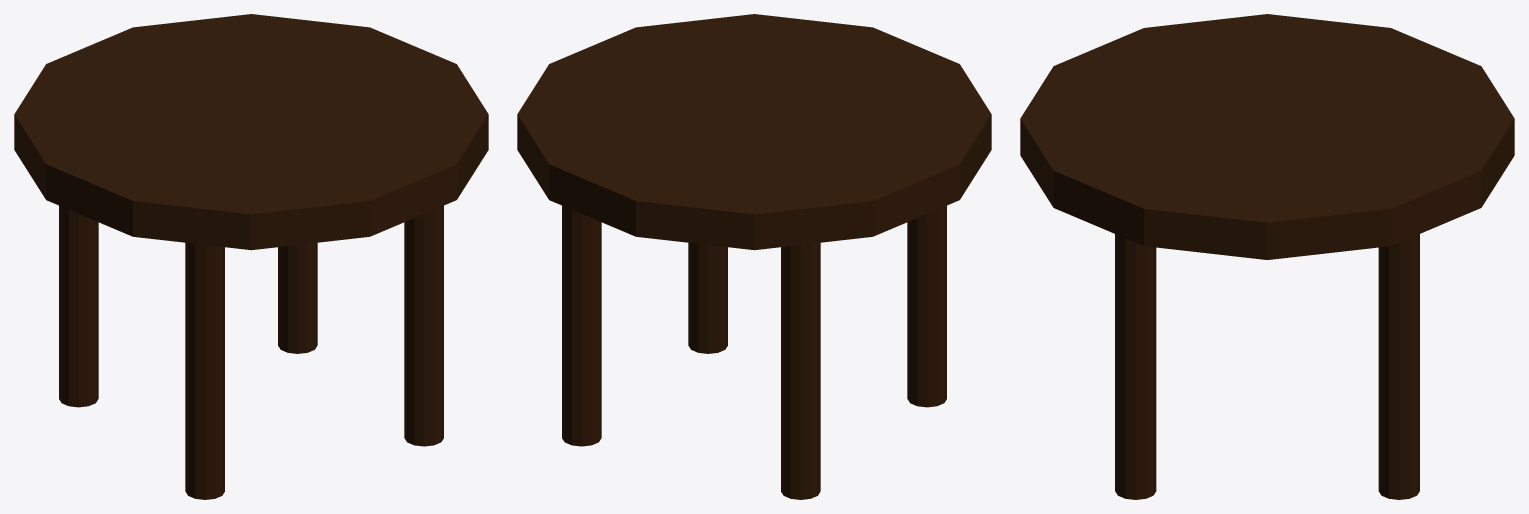
File: Table.obj
The picture shows the model from 3 angles, left to right: view 1: azimuth 30°, elevation 25°; view 2: azimuth 150°, elevation 25°; view 3: azimuth 270°, elevation 25°; orthographic projection. The views are drawn at different scales.
Parts seen in each view (by area): view 1: Cylinder, Cylinder.002, Cylinder.003, Cylinder.001, Cylinder.004; view 2: Cylinder, Cylinder.001, Cylinder.004, Cylinder.002, Cylinder.003; view 3: Cylinder, Cylinder.003, Cylinder.004.
Part boxes in pixels (left/top/right/bottom): Cylinder: left=14, top=14, right=488, bottom=250; Cylinder.002: left=185, top=242, right=224, bottom=499; Cylinder.003: left=404, top=205, right=443, bottom=446; Cylinder.001: left=59, top=205, right=98, bottom=407; Cylinder.004: left=278, top=242, right=317, bottom=353; Cylinder: left=517, top=14, right=991, bottom=250; Cylinder.001: left=781, top=242, right=820, bottom=499; Cylinder.004: left=562, top=205, right=601, bottom=446; Cylinder.002: left=907, top=205, right=946, bottom=407; Cylinder.003: left=688, top=242, right=727, bottom=353; Cylinder: left=1020, top=14, right=1514, bottom=259; Cylinder.003: left=1115, top=234, right=1156, bottom=499; Cylinder.004: left=1378, top=234, right=1419, bottom=499.
Bounding box in the file's own units: 1.5 × 1.06 × 1.5.
